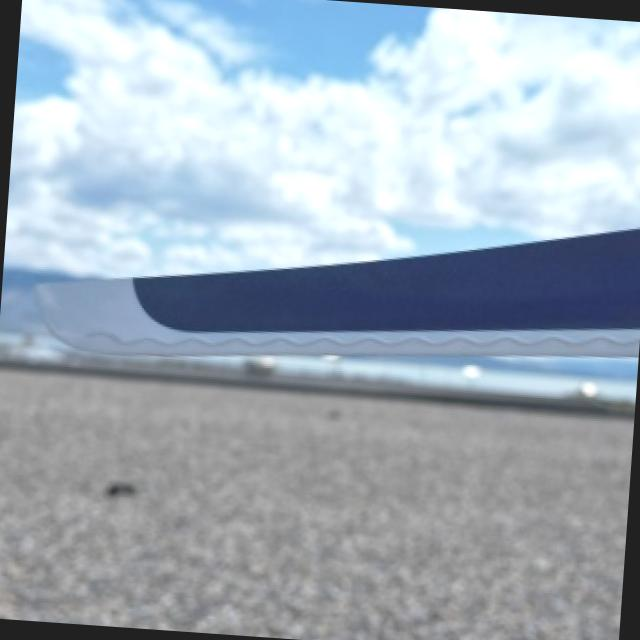healthy: (41, 226, 640, 353)
